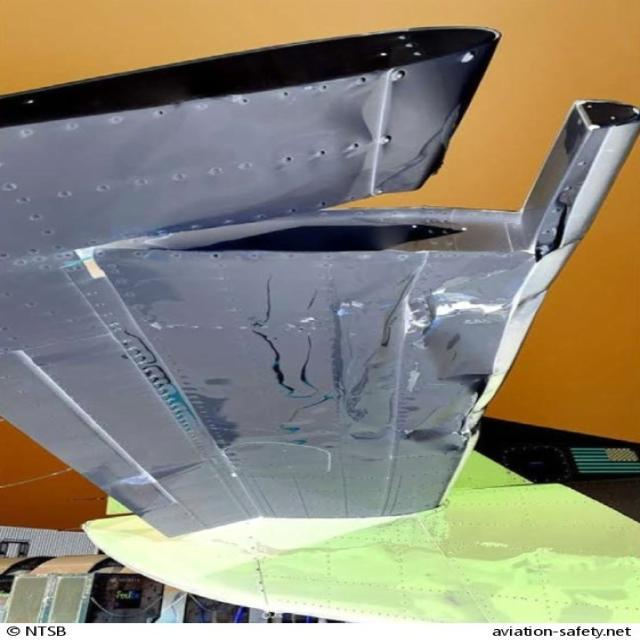dent: (400, 414, 452, 459)
